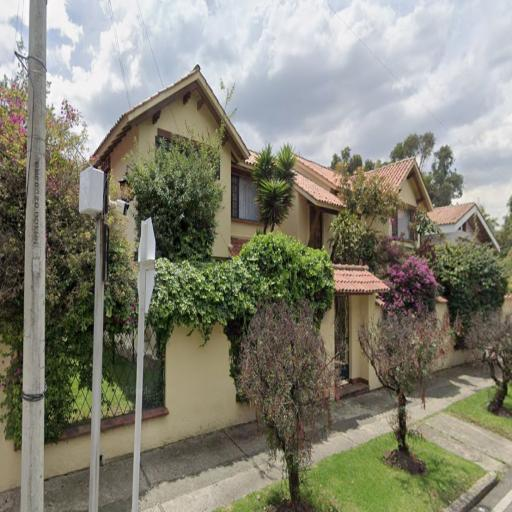Casa: (85, 63, 502, 456)
postes: (19, 0, 50, 512)
